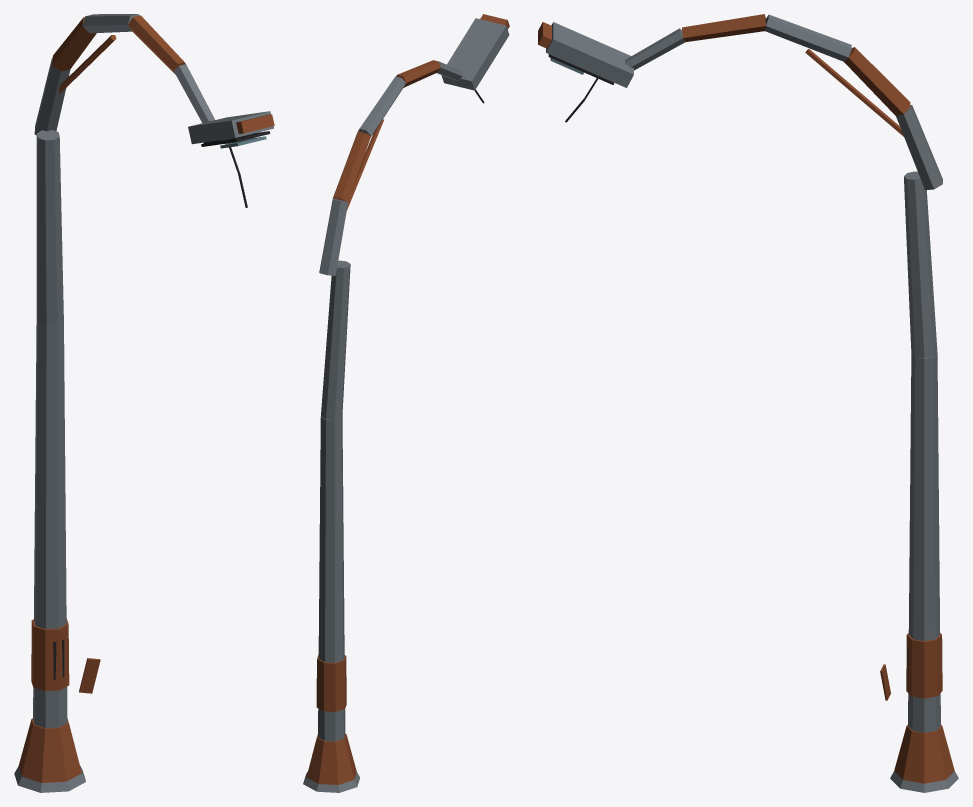
Rendered from street_lamp.glb.
3 views of the same model, side by side, from view 1: azimuth 30°, elevation 25°; view 2: azimuth 150°, elevation 25°; view 3: azimuth 270°, elevation 25° (orthographic). The views are drawn at different scales.
Visible parts, largest first — view 1: street_lamp; view 2: street_lamp; view 3: street_lamp.
Boxes of the visible parts, x1,y1,x2,y2 form: street_lamp: (14,14,274,792); street_lamp: (303,14,509,792); street_lamp: (538,14,958,792).
Size of what is drawn, in the model's own units: 0.5 by 6.1 by 3.05.
2 materials, 2 textured.
